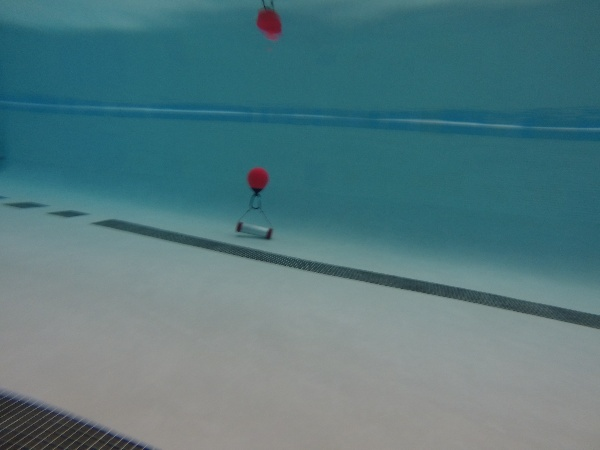buoy_red: (243, 164, 272, 201)
